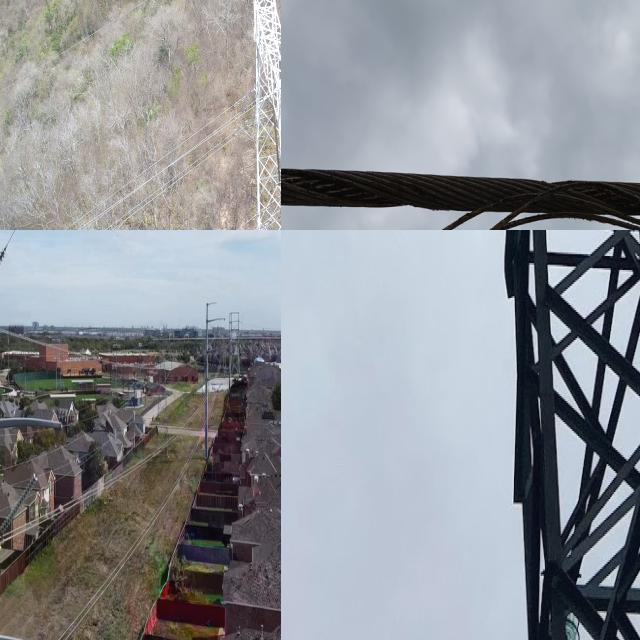杆塔: (489, 230, 640, 640)
正常绝缘子: (0, 460, 47, 548), (271, 94, 281, 187), (0, 234, 15, 272)
电缆破损: (281, 139, 640, 230)
